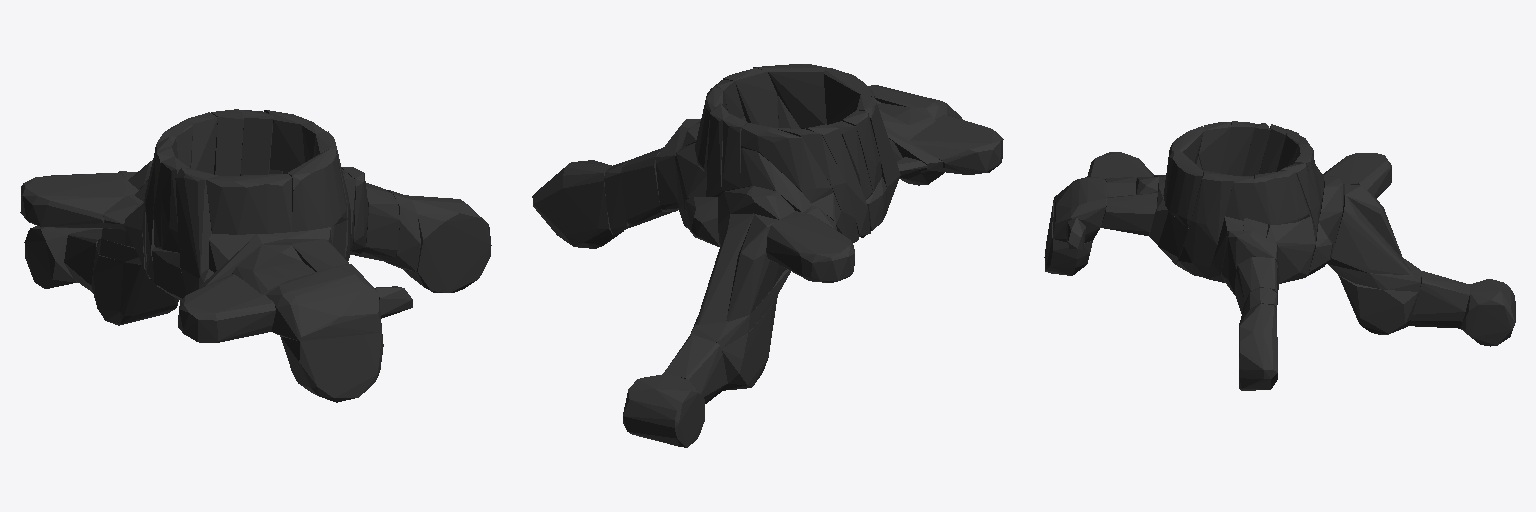
The robot description file, URDF, robot "knuckle":
<?xml version="1.0" ?>
<robot name="knuckle">
  <link name="knuckle_link">

    <inertial>
      <origin xyz="0.002921 0.009235 -0.028423" rpy="0 0 0" />
      <!--mass value="3."/-->
      <mass value="0.488"/>
      <!--inertia ixx="0.2044520160" ixy="0.0007975608" ixz="0.0065516653"
               iyy="0.1079389849" iyz="0.0374371044" izz="0.2495596983"/-->
      <inertia ixx="0.002044520160" ixy="0.000007975608" ixz="0.000065516653"
               iyy="0.001079389849" iyz="0.000374371044" izz="0.002495596983"/>
    </inertial>

    <visual>
      <origin rpy="0 0 0" xyz="0 0 0"/>
      <geometry>
        <mesh filename="../meshes/knuckle/knuckle_approximate.stl" scale=".001 .001 .001"/>
      </geometry>
      <material name="black">
        <color rgba="0.25 0.25 0.25 1"/>
      </material>
    </visual>

    <collision>
      <origin rpy="0 0 0" xyz="0 0 0"/>
      <geometry>
        <mesh filename="../meshes/knuckle/knuckle_approximate.stl" scale=".001 .001 .001"/>
      </geometry>
    </collision>

  </link>
</robot>

--- Facts derived from the render (not from the file) ---
The picture shows the robot from 3 angles, left to right: view 1: azimuth 30°, elevation 25°; view 2: azimuth 150°, elevation 25°; view 3: azimuth 270°, elevation 25°; orthographic projection.
Robot: knuckle — 1 links, 0 joints (none); root link knuckle_link; default pose: all joints at 0.
Links seen in each view (by area): view 1: knuckle_link; view 2: knuckle_link; view 3: knuckle_link.
Boxes of the visible links, x1,y1,x2,y2 form: knuckle_link: [20, 109, 491, 402]; knuckle_link: [532, 64, 1003, 447]; knuckle_link: [1044, 121, 1515, 390].
Size in the robot's own frame: 0.2048 by 0.2629 by 0.1197 metres.
1 mesh visuals loaded from 1 distinct referenced files (1 binary STL).
